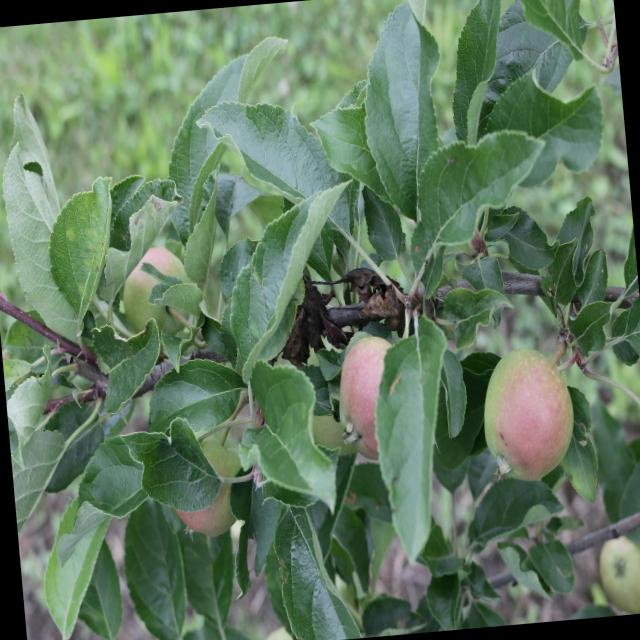-FireBlight-: (284, 268, 411, 368)
